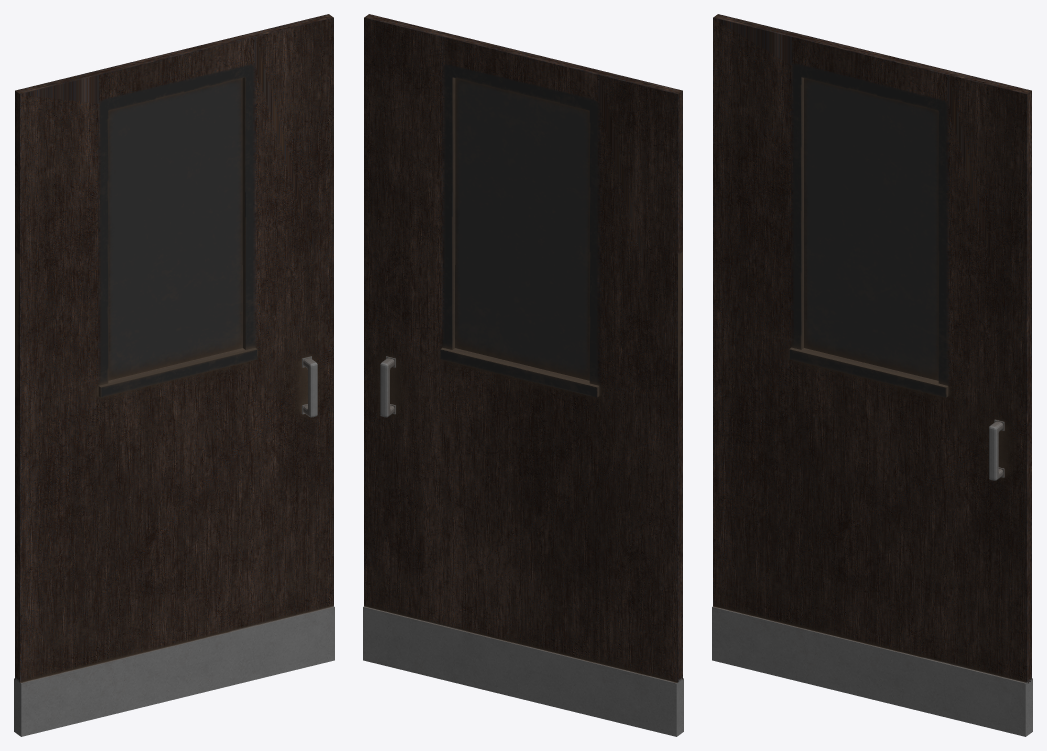
File: Single_door.fbx
3 renders of one model, left to right at view 1: azimuth 30°, elevation 25°; view 2: azimuth 150°, elevation 25°; view 3: azimuth 330°, elevation 25°, orthographic.
Visible parts, largest first — view 1: Single_Door; view 2: Single_Door; view 3: Single_Door.
Part boxes in pixels (x1=…): Single_Door: x1=14, y1=14, x2=334, y2=736; Single_Door: x1=363, y1=14, x2=683, y2=736; Single_Door: x1=712, y1=14, x2=1032, y2=736.
Bounding box in the file's own units: 123 × 241 × 14.1.
